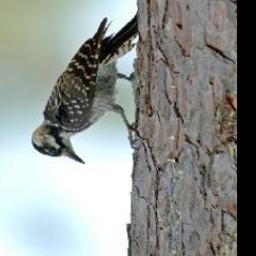Woodpecker: (27, 10, 150, 165)
